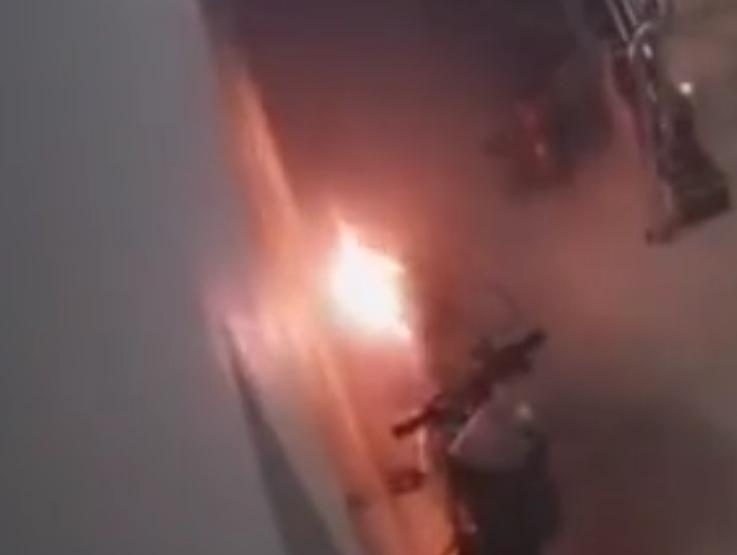fire: (313, 213, 416, 331)
